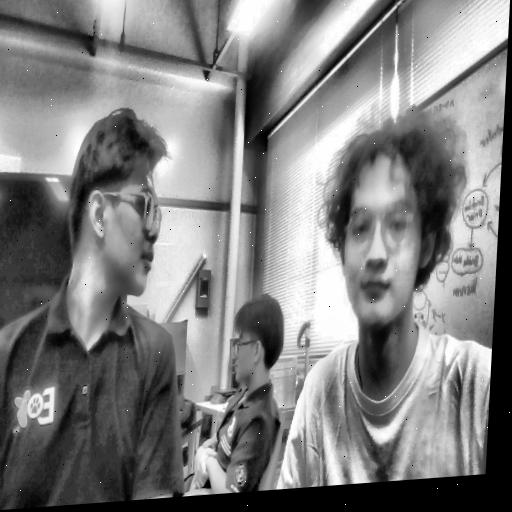Daifuku: (313, 98, 466, 344)
Not Daifuku: (66, 102, 172, 299), (228, 289, 289, 396)
